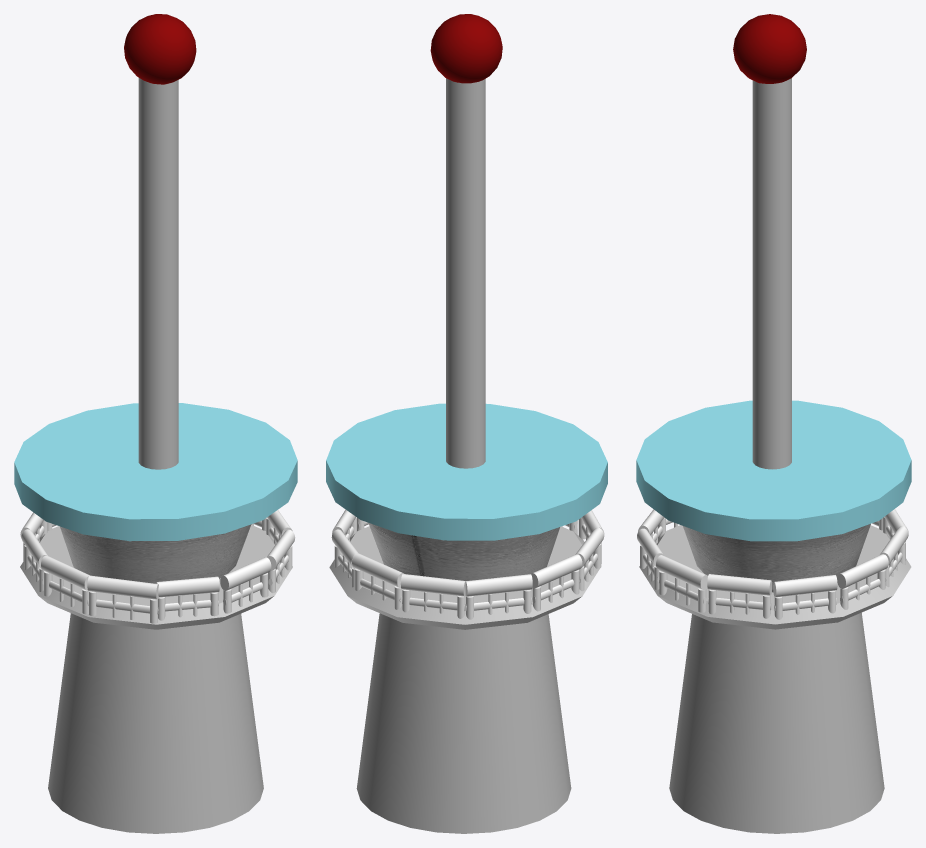
The model's file is tower.obj.
3 renders of one model, left to right at view 1: azimuth 30°, elevation 25°; view 2: azimuth 150°, elevation 25°; view 3: azimuth 270°, elevation 25°, orthographic.
Visible parts, largest first — view 1: GeoSphere01; view 2: GeoSphere01; view 3: GeoSphere01.
Boxes of the visible parts, x1=… form: GeoSphere01: x1=14, y1=14, x2=297, y2=833; GeoSphere01: x1=326, y1=14, x2=607, y2=833; GeoSphere01: x1=636, y1=14, x2=911, y2=833.
Bounding box in the file's own units: 68.77 × 208 × 67.38.
